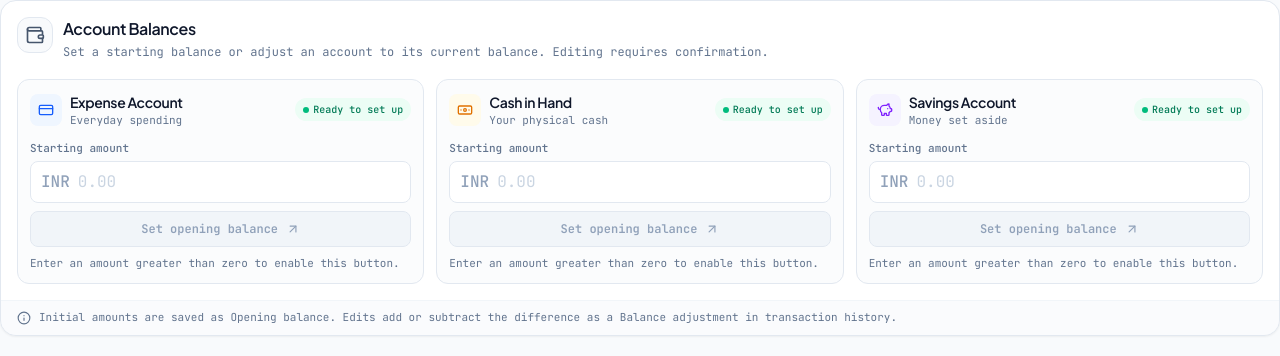
Scenario: Opening balances › retains the amount when saving fails so the user can retry
Type "500" into the number field named "Expense Account opening balance".
click(239, 182); type("500")  # box x1=78 y1=162 x2=400 y2=202
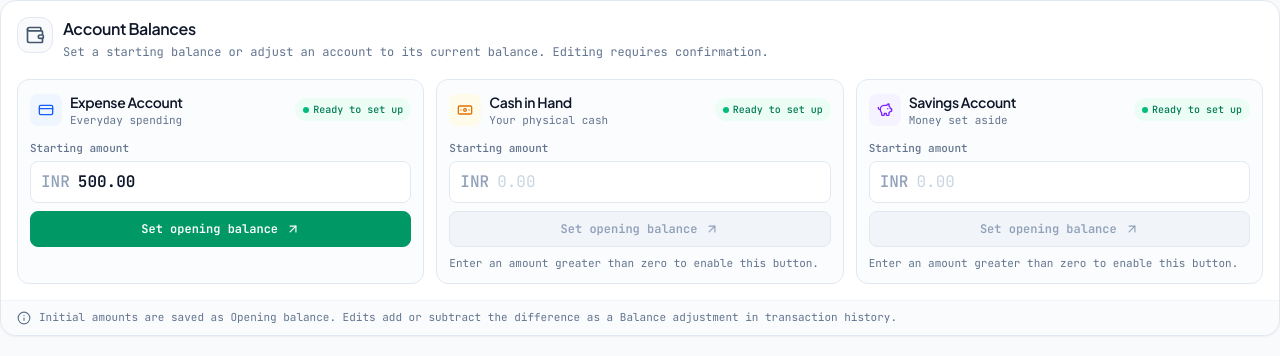
Submit the form named "Expense Account opening balance", box x1=17 y1=78 x2=424 y2=284
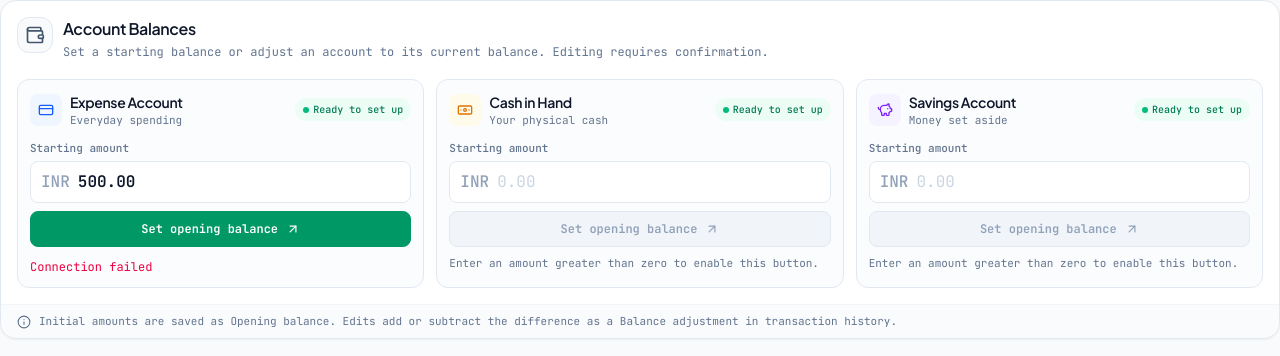
Result: the message reads "Connection failed" at x1=30 y1=258 x2=152 y2=274
